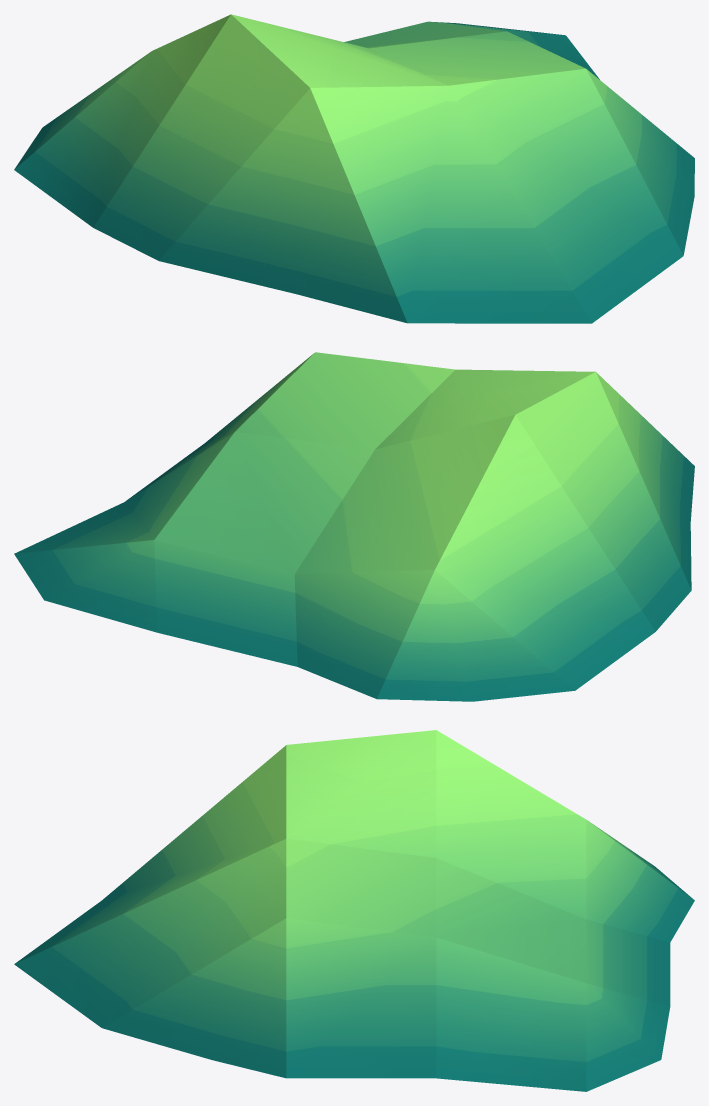
The model's file is terrain_4.fbx.
The picture shows the model from 3 angles, top to bottom: view 1: azimuth 30°, elevation 25°; view 2: azimuth 150°, elevation 25°; view 3: azimuth 270°, elevation 25°; orthographic projection. The views are drawn at different scales.
Parts seen in each view (by area): view 1: pPlane42; view 2: pPlane42; view 3: pPlane42.
Boxes of the visible parts, bbox=[...] form: pPlane42: bbox=[14, 14, 694, 323]; pPlane42: bbox=[14, 352, 694, 701]; pPlane42: bbox=[14, 730, 694, 1091].
Size of the model in its own units: 375 by 117 by 423.
